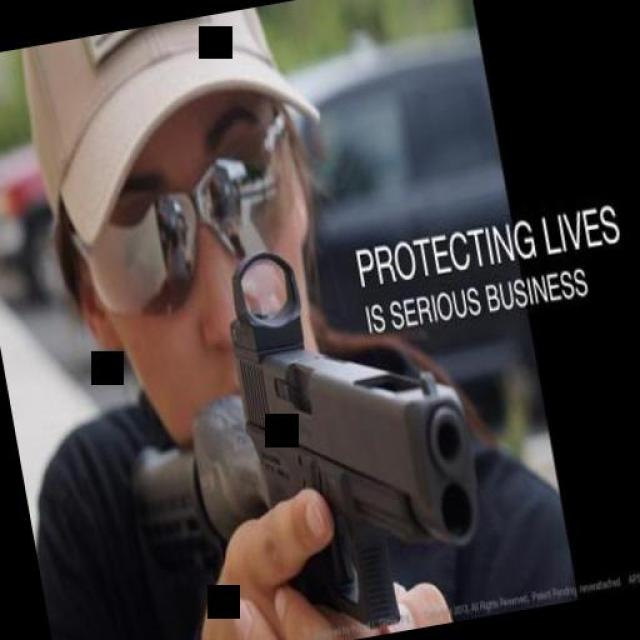gun: (216, 212, 499, 640)
